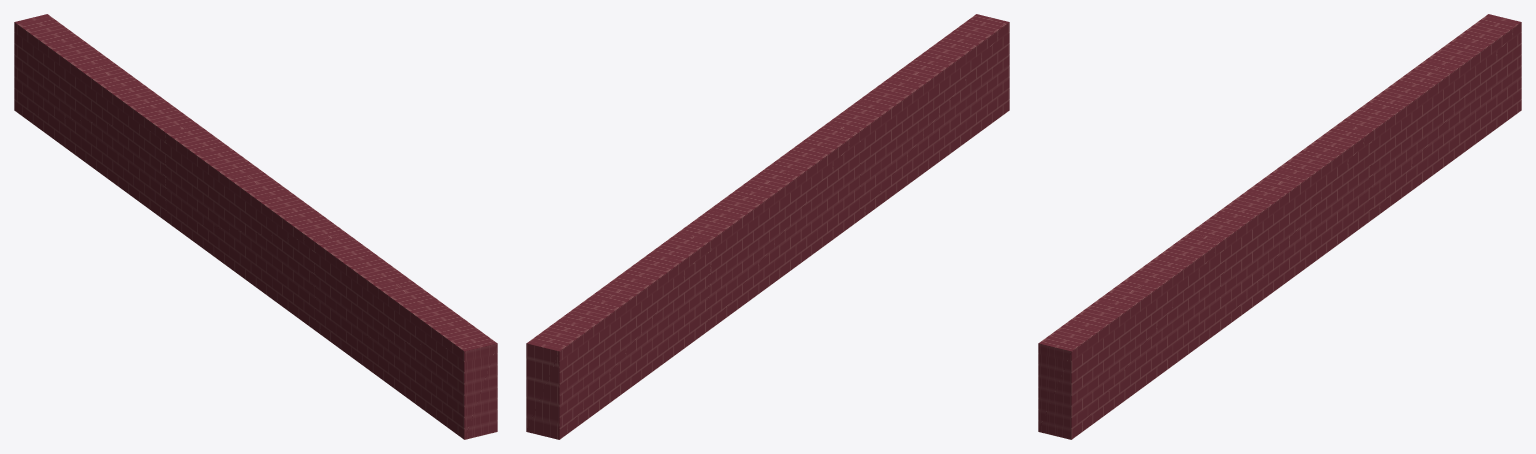
The model's file is Border Walls.fbx.
The picture shows the model from 3 angles, left to right: view 1: azimuth 30°, elevation 25°; view 2: azimuth 150°, elevation 25°; view 3: azimuth 330°, elevation 25°; orthographic projection.
Visible parts, largest first — view 1: Wall; view 2: Wall; view 3: Wall.
Boxes of the visible parts, bbox=[...] form: Wall: bbox=[14, 14, 497, 439]; Wall: bbox=[526, 14, 1009, 439]; Wall: bbox=[1038, 14, 1521, 439].
Size of the model in its own units: 1 by 2.56 by 23.61.
